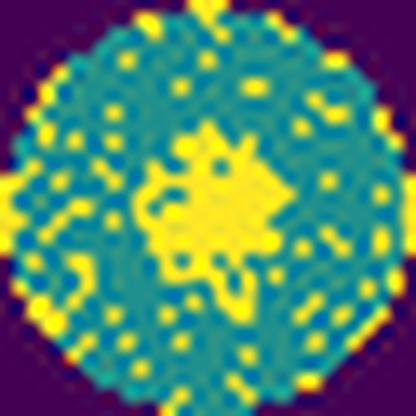Center: (130, 117, 298, 326)
